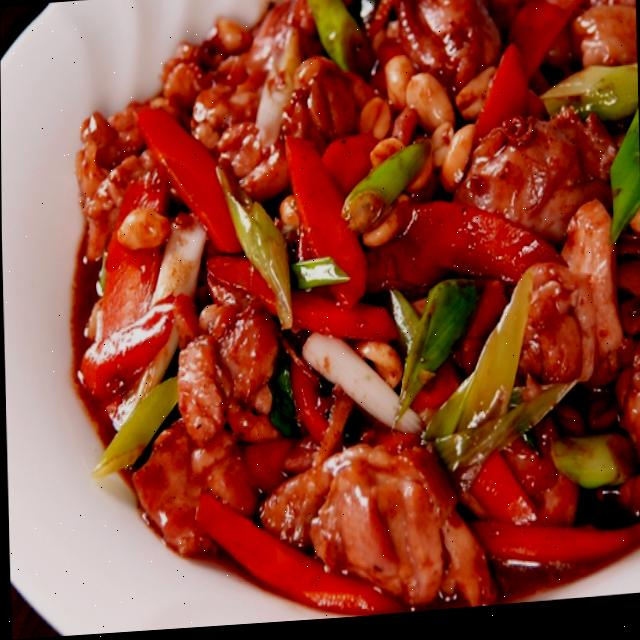鸡肉料理 含炸鸡: (29, 0, 640, 638)
